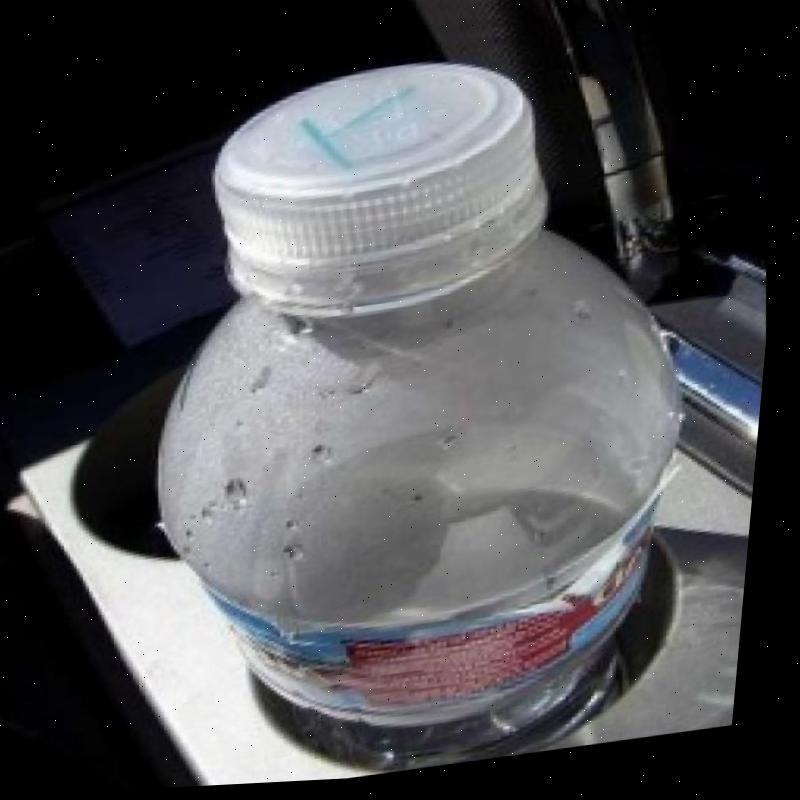botella: (107, 24, 743, 793)
